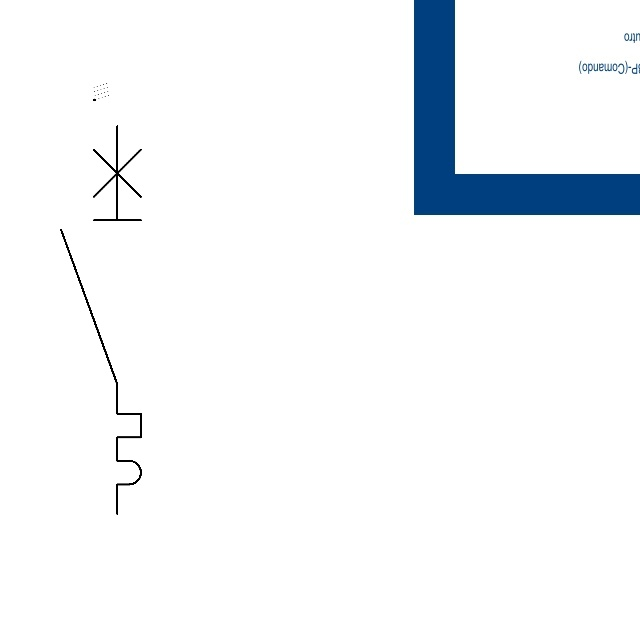interruptor_termomagnetico: (51, 116, 151, 524)
